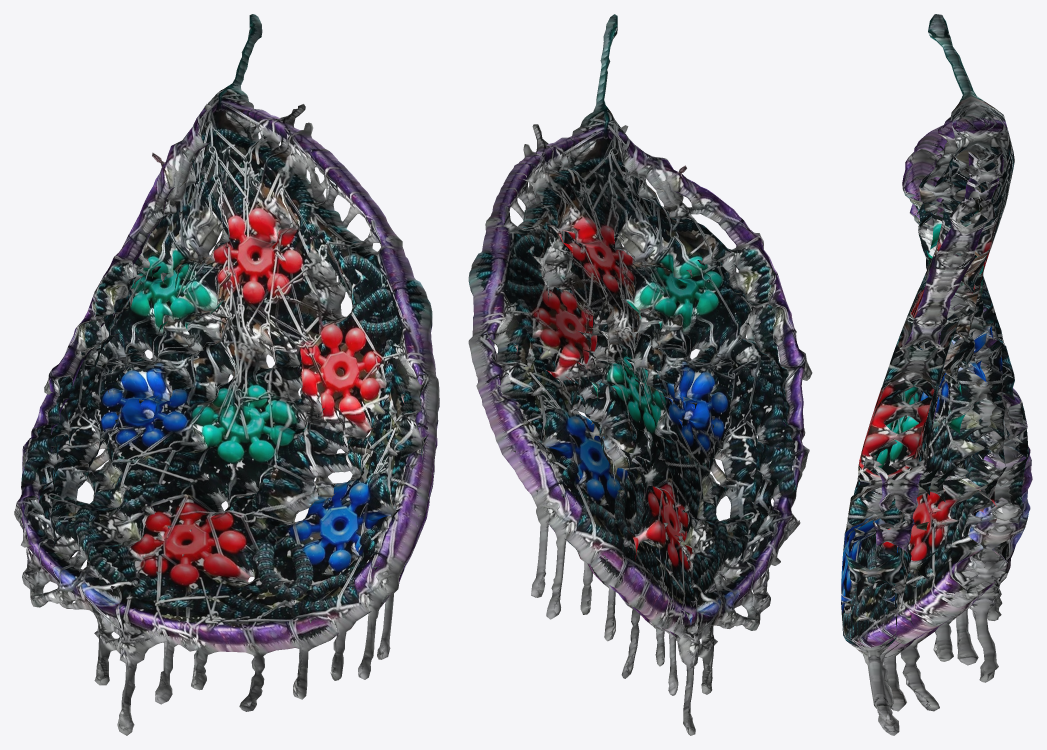
Rendered from hy3d-mov-025.glb.
The picture shows the model from 3 angles, left to right: view 1: azimuth 30°, elevation 25°; view 2: azimuth 150°, elevation 25°; view 3: azimuth 270°, elevation 25°; orthographic projection. The views are drawn at different scales.
Parts seen in each view (by area): view 1: world; view 2: world; view 3: world.
Part boxes in pixels (left/top/right/bottom): world: left=14, top=14, right=439, bottom=735; world: left=468, top=14, right=812, bottom=735; world: left=841, top=14, right=1032, bottom=735.
Size of the model in its own units: 1.28 by 2.27 by 0.5478.
1 material, 1 textured.
